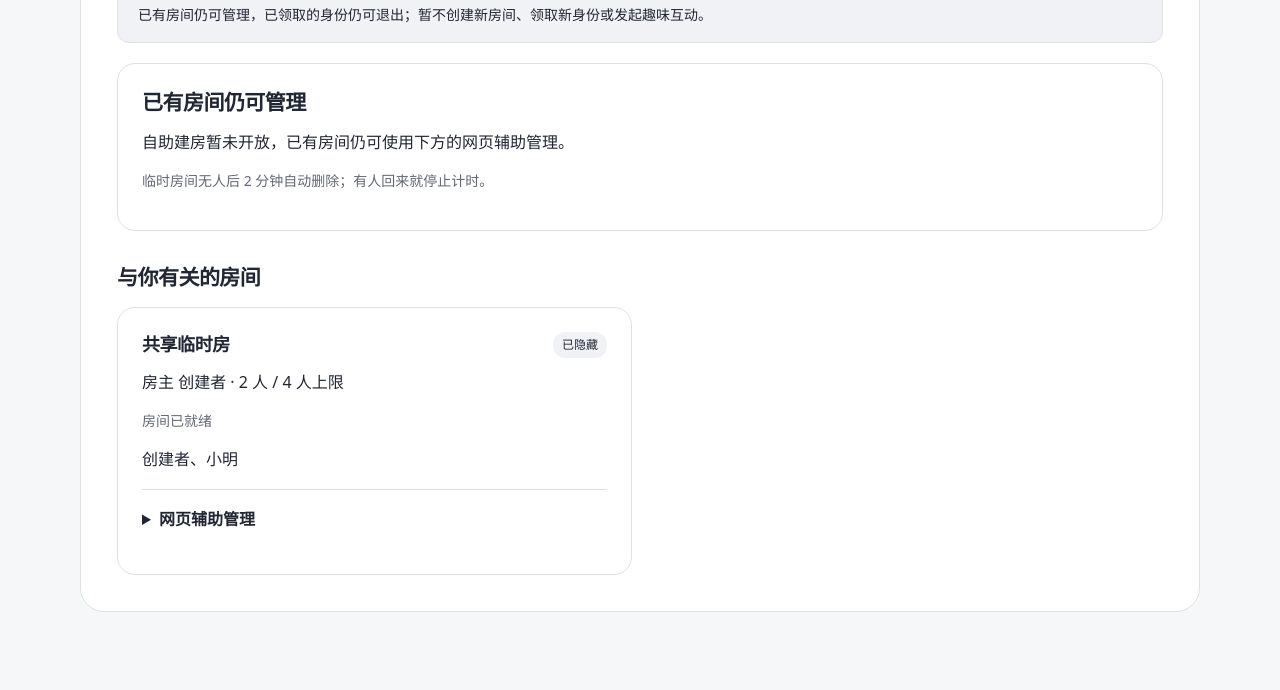
Test: lets any authorized visible temporary-room member use all controls including confirmed occupied closure
(page scrolled)
Expected: the heading "共享临时房" is shown, [142,332,230,357]
Click the heading "网页辅助管理".
click(207, 518)  # box [159,508,255,530]
(page scrolled)
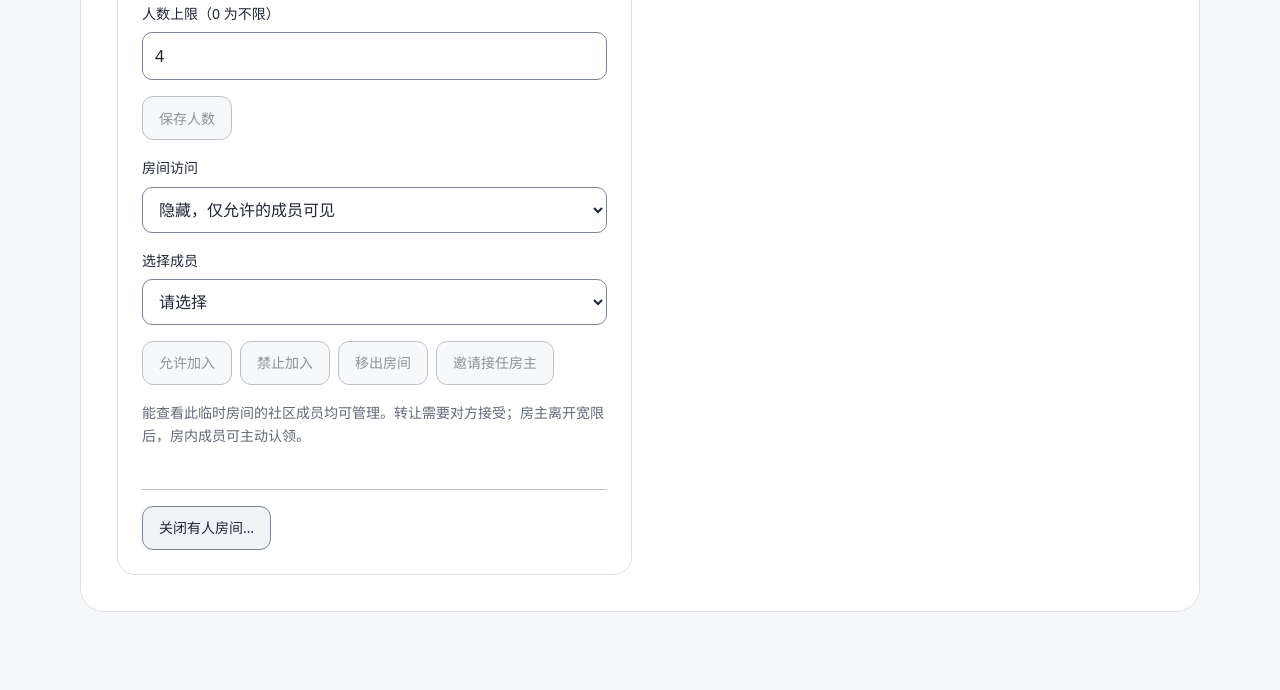
Expected: the button "邀请接任房主" is shown, [436,341,554,385]
Click the button "关闭有人房间…".
click(207, 528)  # box [142,506,271,550]
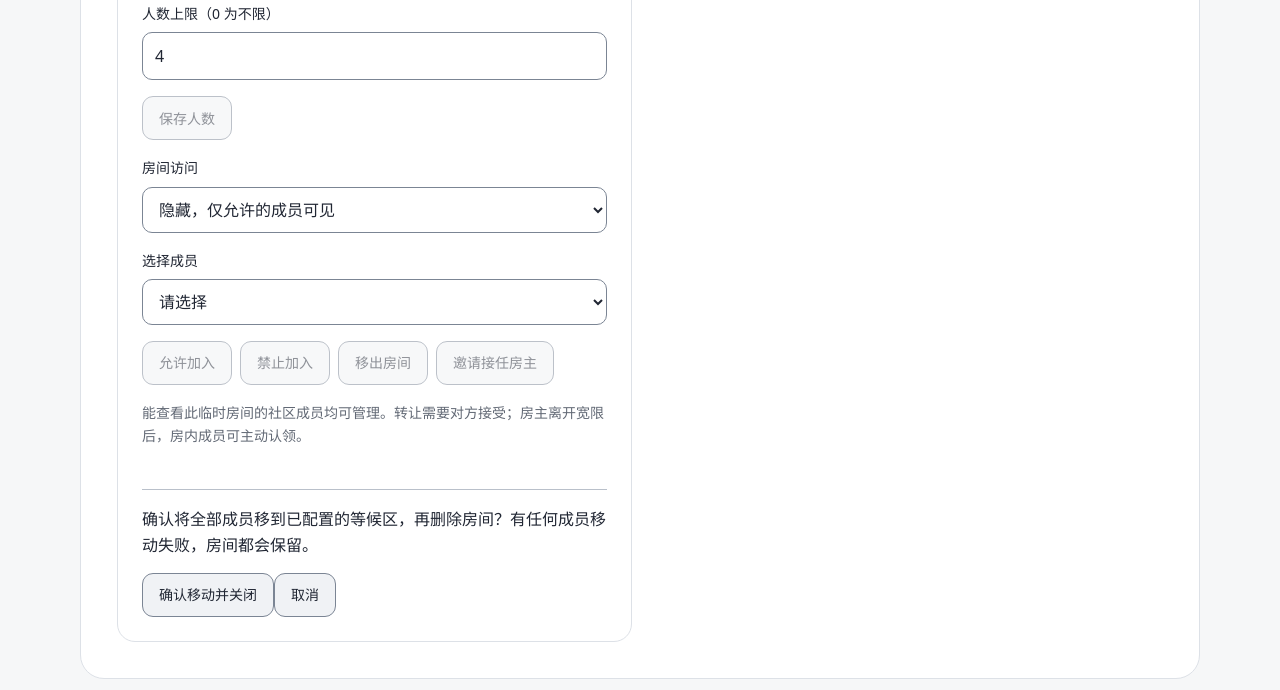
Click the button "确认移动并关闭".
click(208, 595)  # box [142,573,274,617]
(page scrolled)
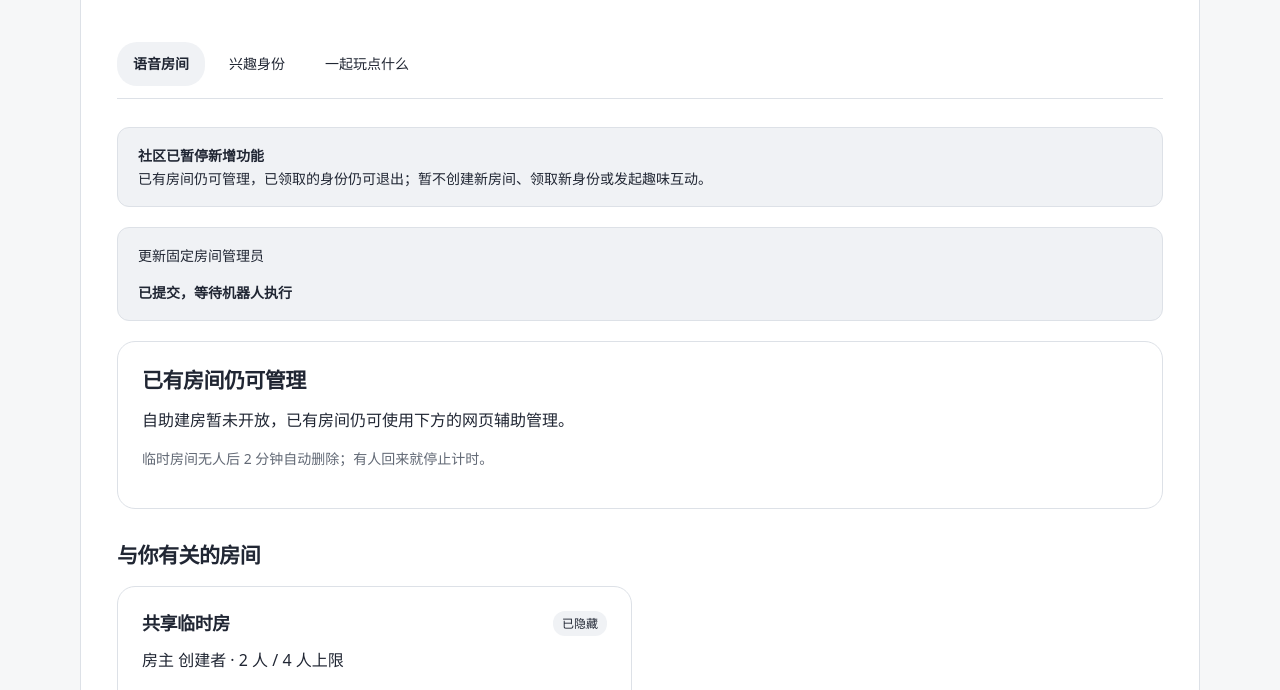
Expected: the text "已提交，等待机器人执行" is shown, [138,283,292,302]
